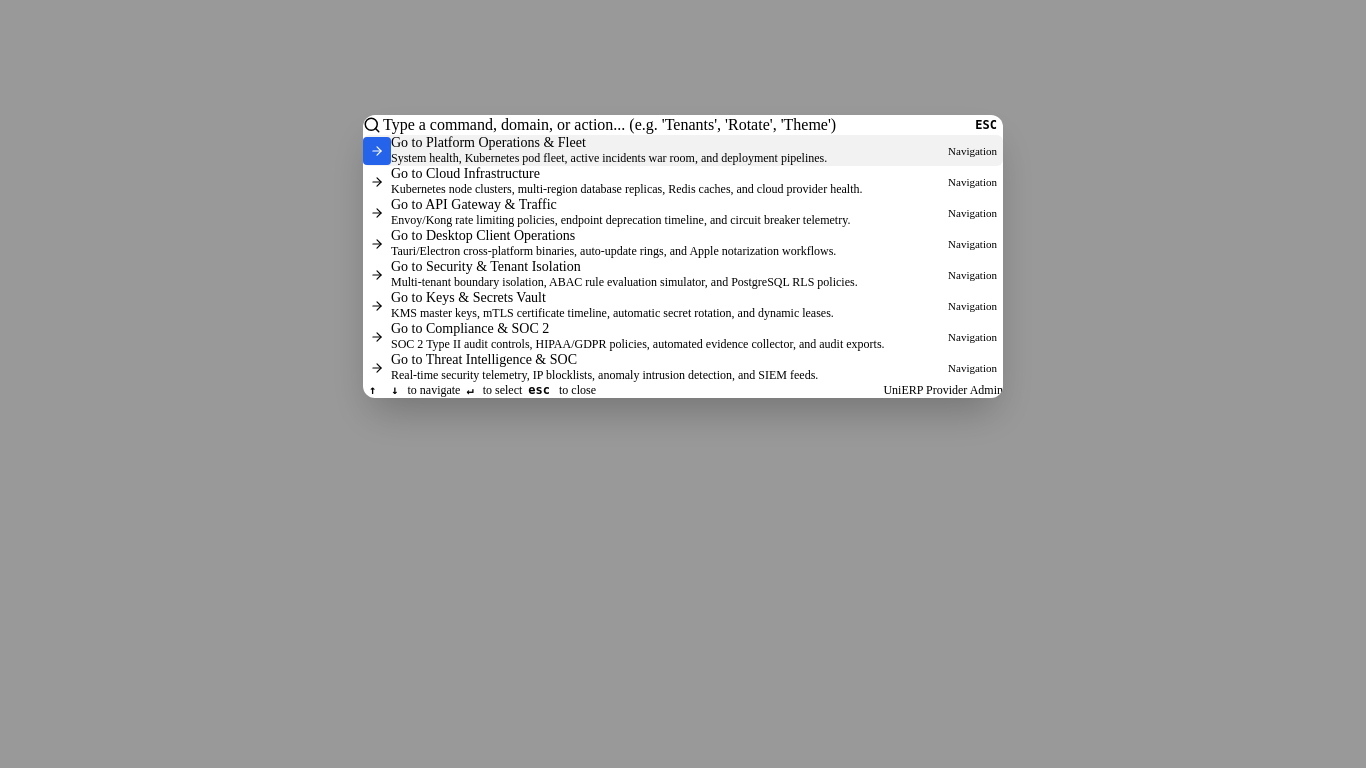
UniversalSearch (WS8.2) › filters commands based on search input
Replace the text in the field with placeholder "Type a command, domain, or action" with "tenant" at (675, 125), box [381,115,969,135]
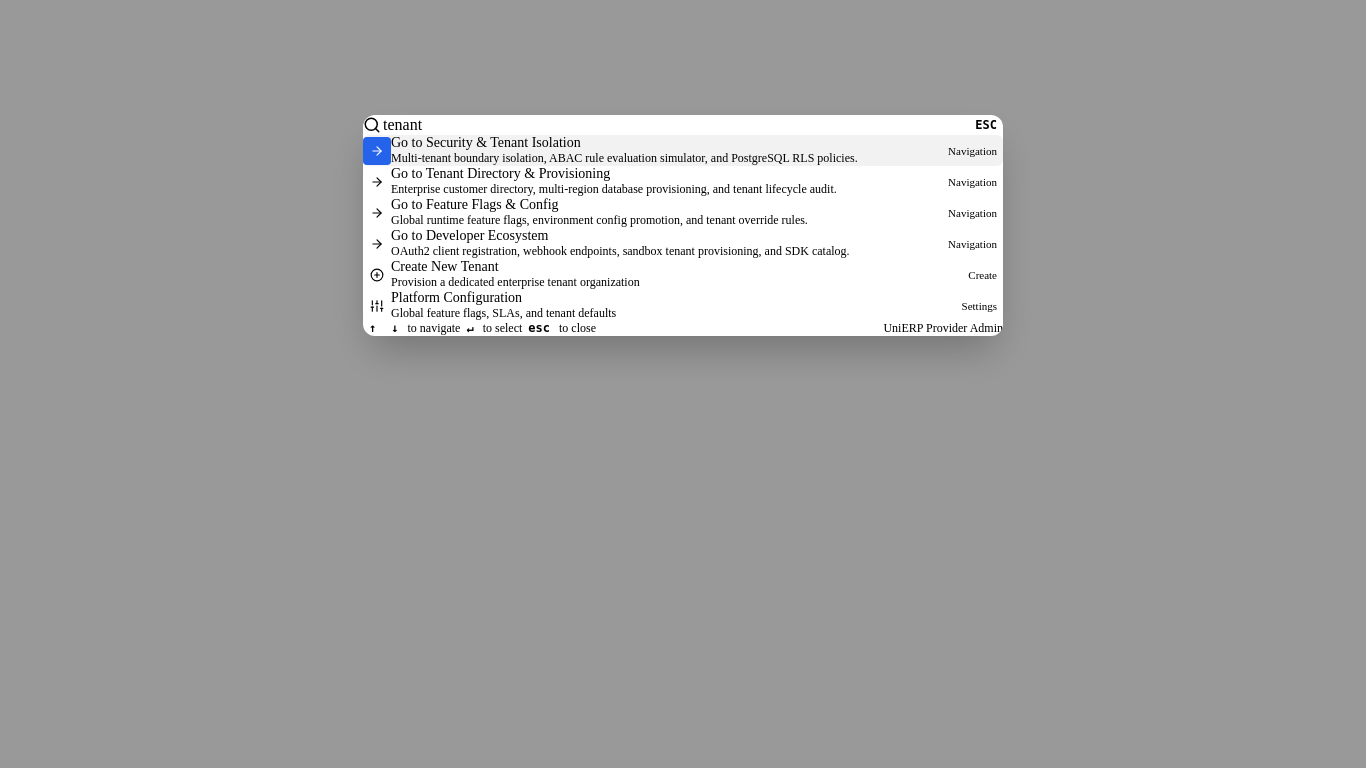
expect the text "Go to Tenant Directory & Provisioning" is shown: met, box [391,166,610,181]
expect the text "Create New Tenant" is shown: met, box [391,259,499,274]
